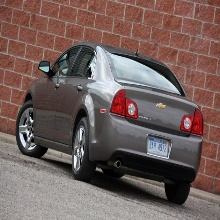no damage: (16, 42, 204, 205)
